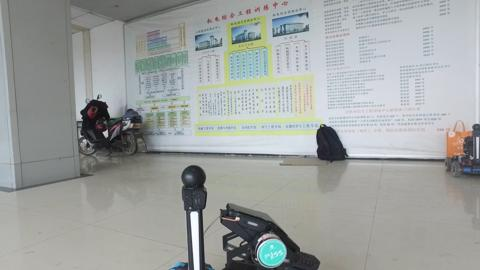bag: (314, 122, 348, 162), (443, 119, 472, 159)
chariot: (169, 164, 320, 270), (444, 123, 480, 179)
